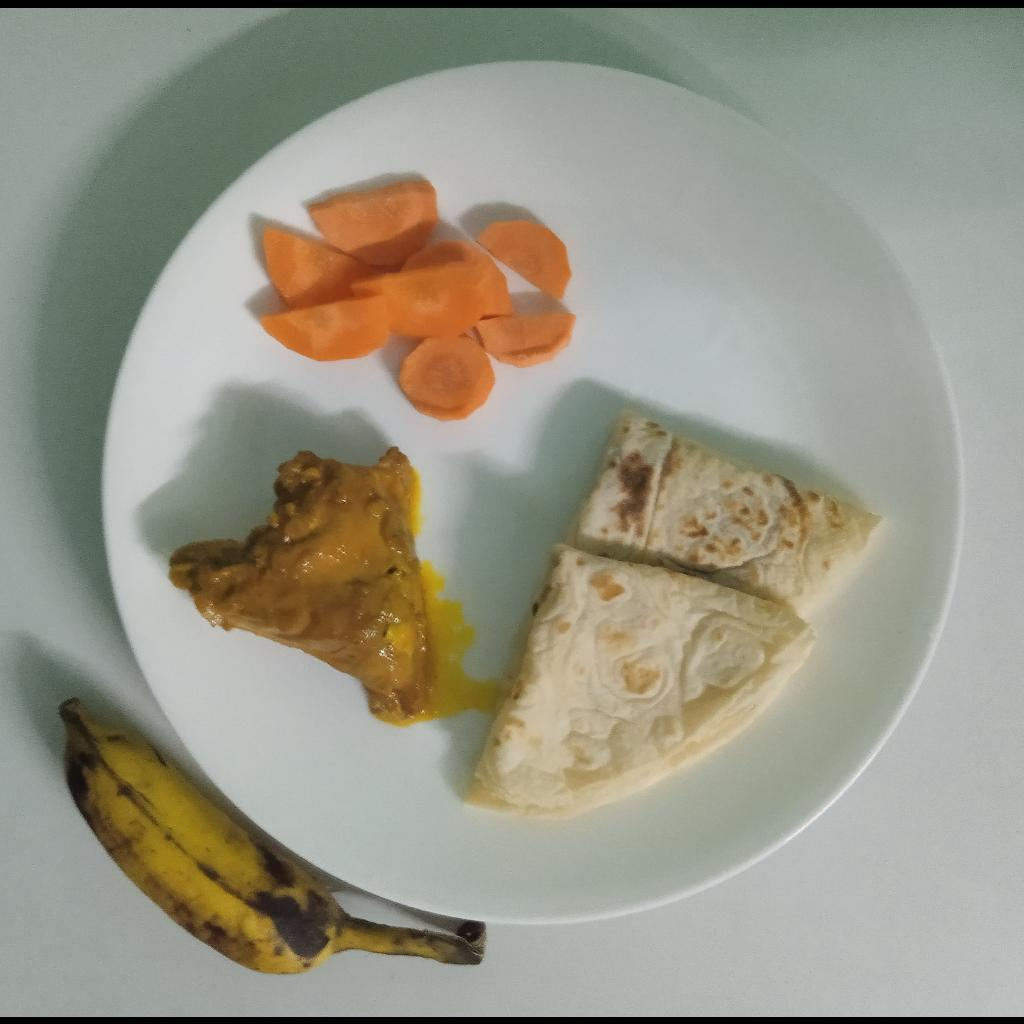banana: (56, 699, 445, 974)
carrot: (258, 176, 579, 423)
chicken: (159, 446, 436, 719)
ruti: (464, 406, 886, 818)
